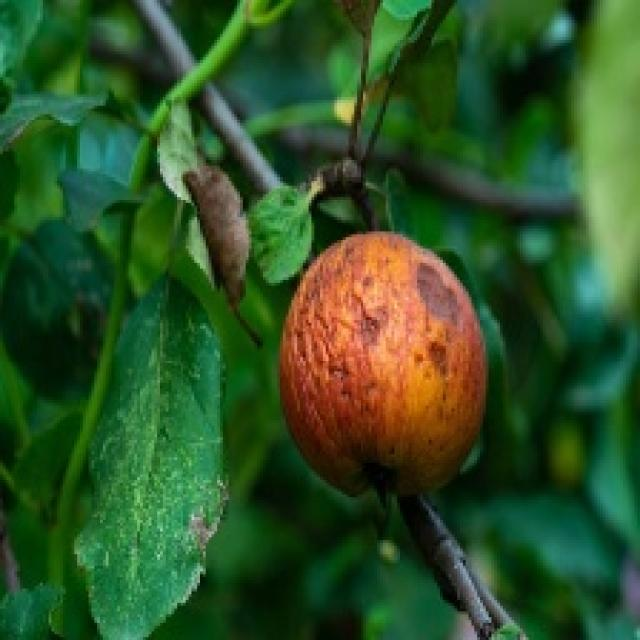rotten_apple: (289, 234, 486, 488)
